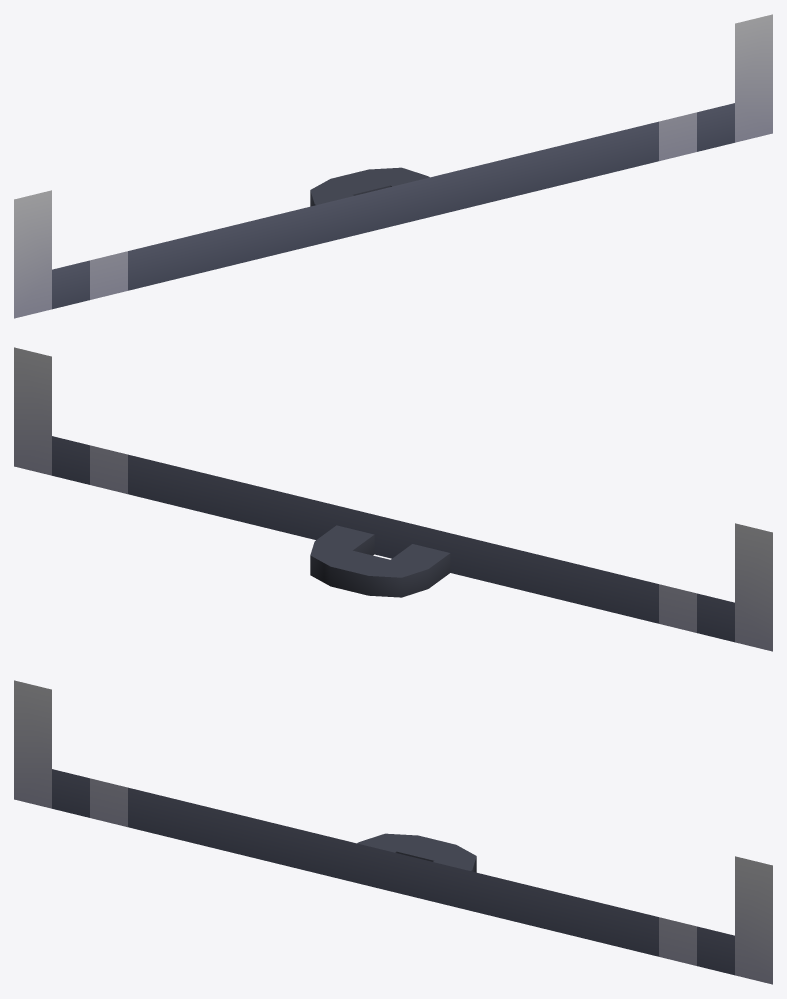
File: track-road-wide-cap-front.glb
The picture shows the model from 3 angles, top to bottom: view 1: azimuth 30°, elevation 25°; view 2: azimuth 150°, elevation 25°; view 3: azimuth 330°, elevation 25°; orthographic projection.
Parts seen in each view (by area): view 1: track-road-wide-cap-front; view 2: track-road-wide-cap-front; view 3: track-road-wide-cap-front.
Boxes of the visible parts, x1=… form: track-road-wide-cap-front: x1=14, y1=14, x2=772, y2=318; track-road-wide-cap-front: x1=14, y1=347, x2=772, y2=651; track-road-wide-cap-front: x1=14, y1=680, x2=772, y2=984.
Size of the model in its own units: 2 by 0.3 by 0.2.
